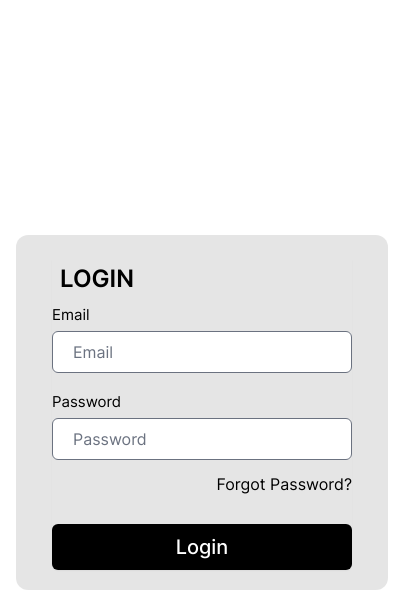
Test: Login Component › submits the form with valid data
This screenshot has width=405, height=607.
Type "test@example.com" into the field labelled "Email" at (202, 352), box [52,330,352,372]
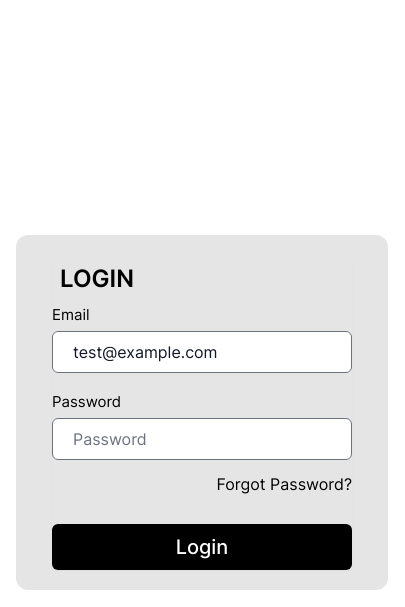
Type "Password1!" into the password field labelled "Password" at (202, 438), box [52,418,352,460]
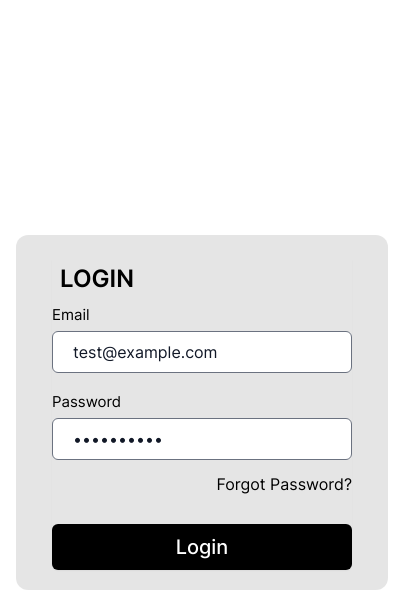
Click the button "Login" at (202, 546), box [52,524,352,570]
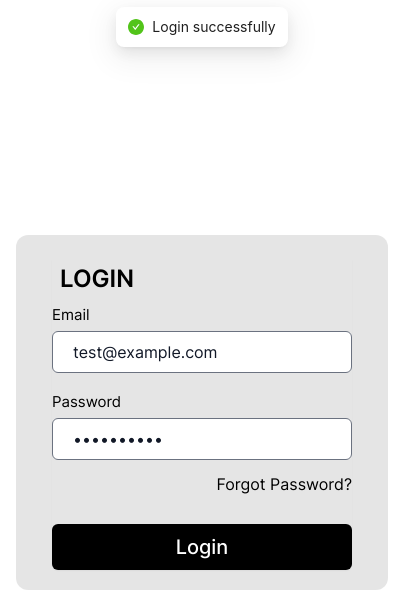
Expected: the text "Login successfully" is shown, [152,16,276,38]
